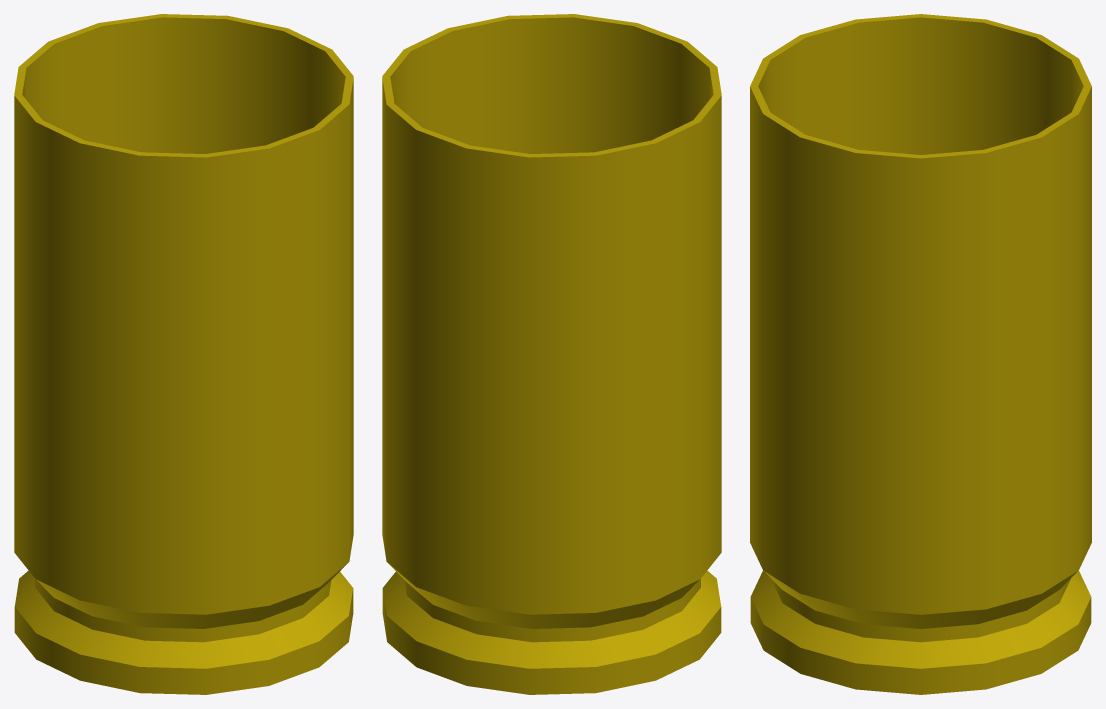
File: 9mmcasing.fbx
The picture shows the model from 3 angles, left to right: view 1: azimuth 30°, elevation 25°; view 2: azimuth 150°, elevation 25°; view 3: azimuth 270°, elevation 25°; orthographic projection.
Parts seen in each view (by area): view 1: Cylinder; view 2: Cylinder; view 3: Cylinder.
Boxes of the visible parts, <box> form: Cylinder: <box>14,14,353,694</box>; Cylinder: <box>382,14,721,694</box>; Cylinder: <box>750,14,1091,694</box>.
Size of the model in its own units: 5.32 by 9.32 by 5.32.
Materials: 1 (1 with a texture image).
